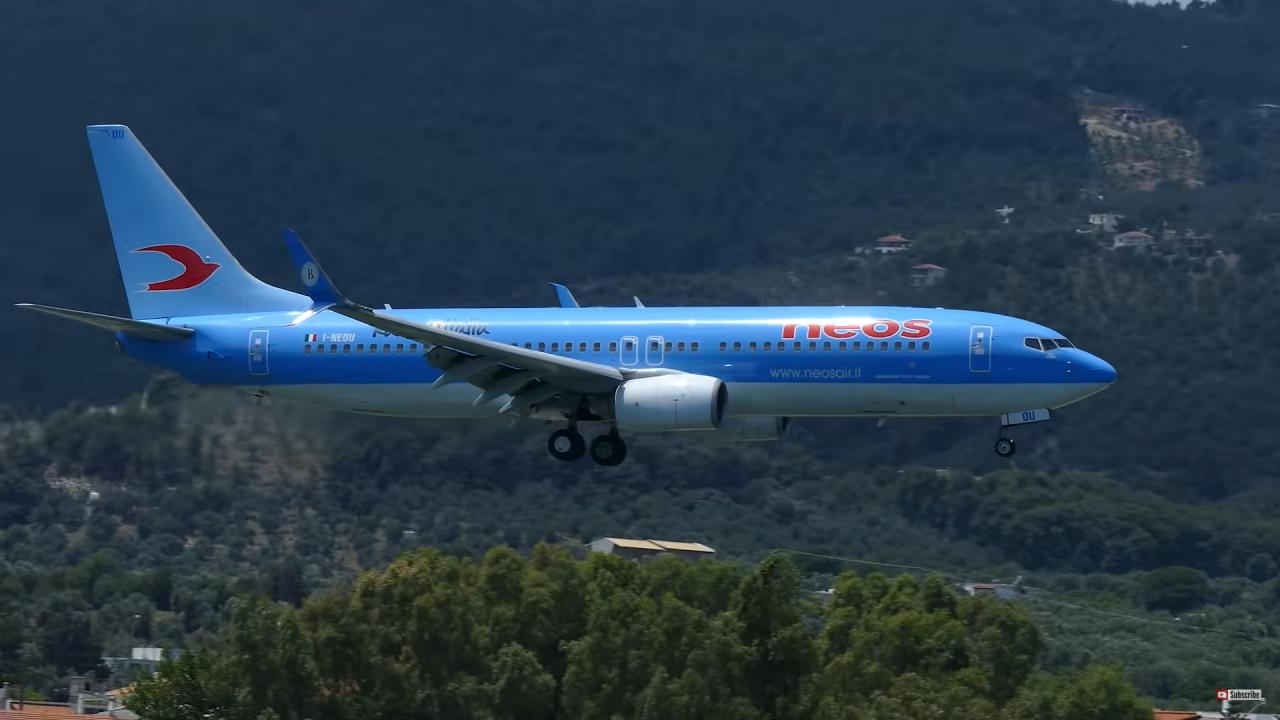Airplane: (10, 105, 1138, 476)
